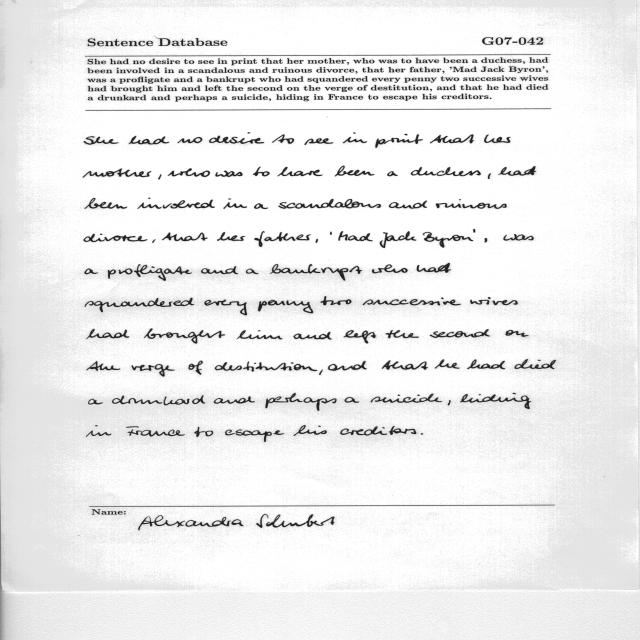word: (270, 264, 362, 281), (85, 298, 194, 312), (108, 264, 192, 281), (144, 328, 225, 344), (265, 393, 337, 411), (460, 393, 531, 409), (278, 199, 381, 209), (112, 395, 205, 406), (215, 362, 317, 372), (137, 197, 215, 209), (254, 231, 311, 247), (423, 232, 473, 248), (363, 298, 461, 306), (225, 429, 284, 442), (340, 426, 416, 436), (258, 300, 313, 313), (436, 199, 507, 209), (375, 134, 423, 148), (205, 300, 247, 316), (209, 132, 264, 144), (126, 426, 185, 437), (370, 394, 442, 403), (411, 167, 481, 176), (83, 169, 151, 178), (380, 231, 416, 248), (430, 329, 490, 338), (132, 364, 175, 376), (84, 234, 147, 242), (85, 198, 127, 209), (382, 360, 428, 370), (237, 330, 282, 340), (344, 330, 376, 344), (87, 329, 130, 339), (514, 360, 556, 370), (278, 167, 323, 176), (335, 166, 375, 176), (430, 135, 474, 144), (328, 361, 367, 371), (470, 297, 518, 305), (498, 166, 536, 176), (467, 360, 505, 370), (168, 168, 210, 177), (293, 425, 327, 436), (129, 136, 169, 145), (162, 233, 207, 241), (338, 231, 373, 241), (417, 263, 451, 273), (87, 361, 121, 371), (214, 396, 255, 404), (372, 265, 408, 274), (84, 136, 119, 145), (86, 425, 112, 437), (385, 330, 419, 339), (389, 201, 427, 209), (294, 332, 332, 340), (201, 266, 238, 274), (320, 297, 352, 306), (343, 132, 367, 143), (223, 198, 247, 209), (217, 232, 245, 241), (435, 359, 460, 369), (484, 134, 511, 143), (272, 134, 294, 144), (504, 234, 534, 241), (188, 361, 203, 375), (305, 138, 334, 145), (194, 427, 214, 437), (216, 170, 243, 177), (253, 167, 270, 177), (506, 330, 529, 337), (178, 137, 203, 143), (88, 399, 103, 405), (254, 203, 268, 209), (345, 397, 359, 403), (85, 269, 98, 275), (246, 269, 259, 274), (387, 171, 398, 176), (319, 369, 323, 375), (488, 173, 491, 179), (448, 400, 451, 406), (152, 239, 156, 243), (158, 175, 161, 180), (316, 239, 318, 243), (330, 231, 332, 235), (474, 229, 476, 233), (485, 238, 487, 242), (421, 433, 423, 435)
